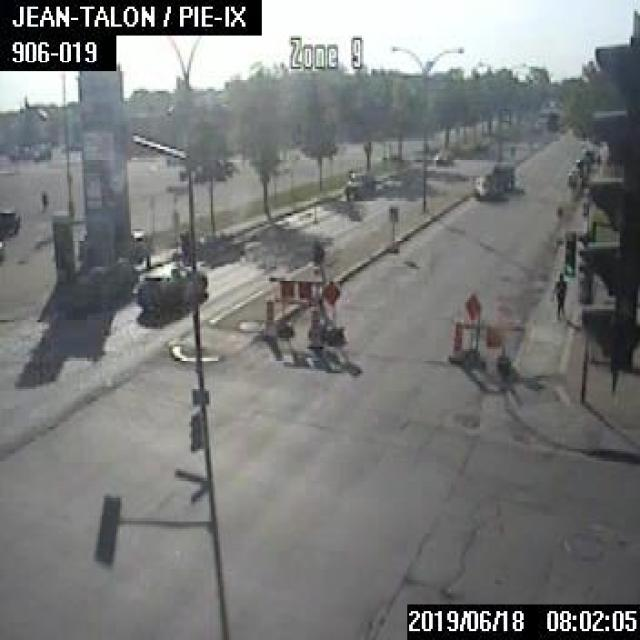construction: (268, 274, 344, 342), (458, 291, 511, 366), (304, 304, 321, 346), (447, 318, 462, 362), (261, 296, 275, 338)
pedestrian: (550, 272, 568, 320), (40, 192, 48, 210)
vehicle: (136, 258, 207, 311), (342, 168, 373, 198), (471, 176, 501, 200), (491, 160, 514, 189), (0, 206, 18, 232), (565, 166, 583, 185), (435, 150, 453, 163), (575, 156, 588, 172)
